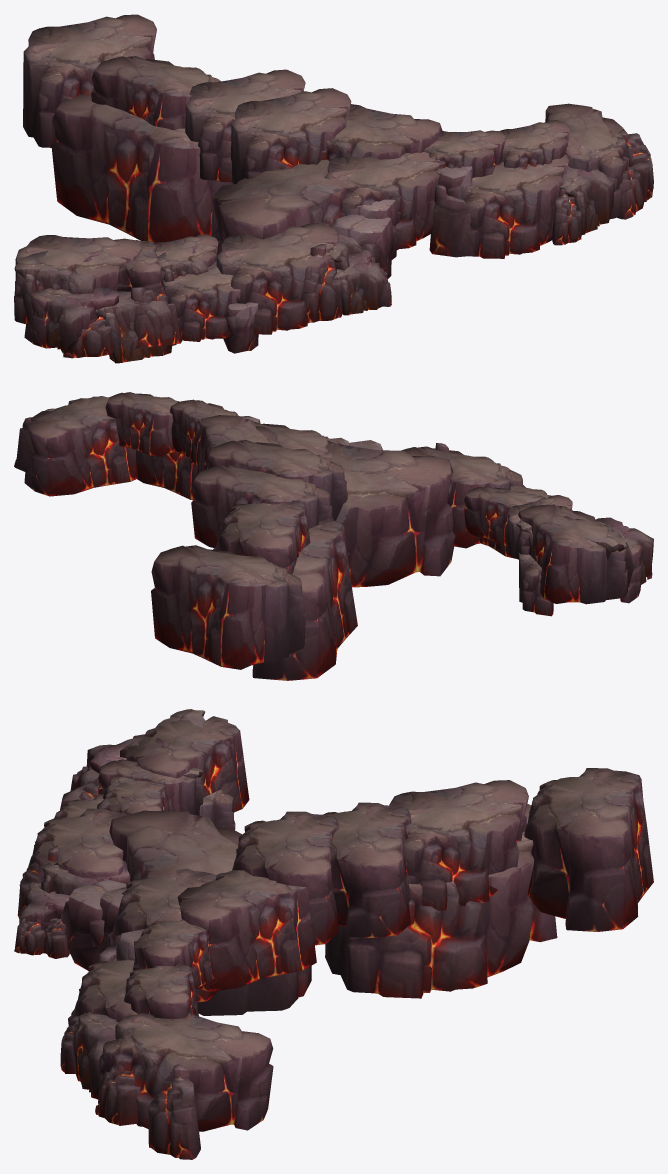
File: yanshi15_1.fbx
3 renders of one model, top to bottom at view 1: azimuth 30°, elevation 25°; view 2: azimuth 150°, elevation 25°; view 3: azimuth 270°, elevation 25°, orthographic. The views are drawn at different scales.
Parts seen in each view (by area): view 1: yanshi15_1; view 2: yanshi15_1; view 3: yanshi15_1.
Boxes of the visible parts, box(x1,y1,x2,y2) form: yanshi15_1: box(14, 14, 653, 363); yanshi15_1: box(14, 392, 653, 680); yanshi15_1: box(14, 709, 653, 1159).
Bounding box in the file's own units: 11217 × 2170 × 8280.
